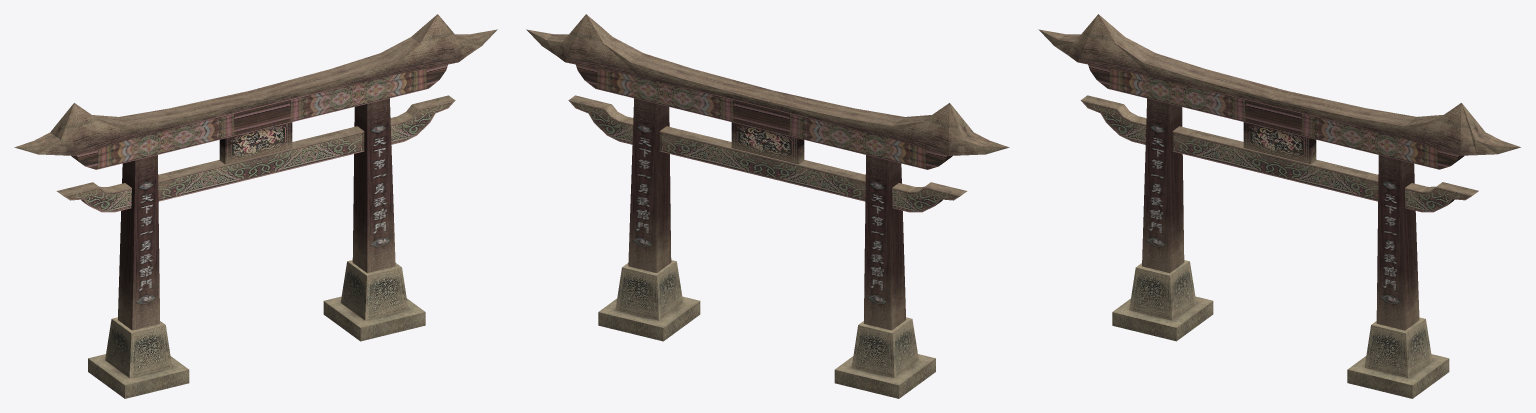
File: desert-035-woodgate.fbx
3 renders of one model, left to right at view 1: azimuth 30°, elevation 25°; view 2: azimuth 150°, elevation 25°; view 3: azimuth 330°, elevation 25°, orthographic.
Parts seen in each view (by area): view 1: desert-035-woodgate; view 2: desert-035-woodgate; view 3: desert-035-woodgate.
Boxes of the visible parts, bbox=[...] form: desert-035-woodgate: bbox=[14, 14, 497, 398]; desert-035-woodgate: bbox=[526, 14, 1009, 398]; desert-035-woodgate: bbox=[1038, 14, 1520, 398].
Size of the model in its own units: 14.4 by 8.27 by 1.91.
